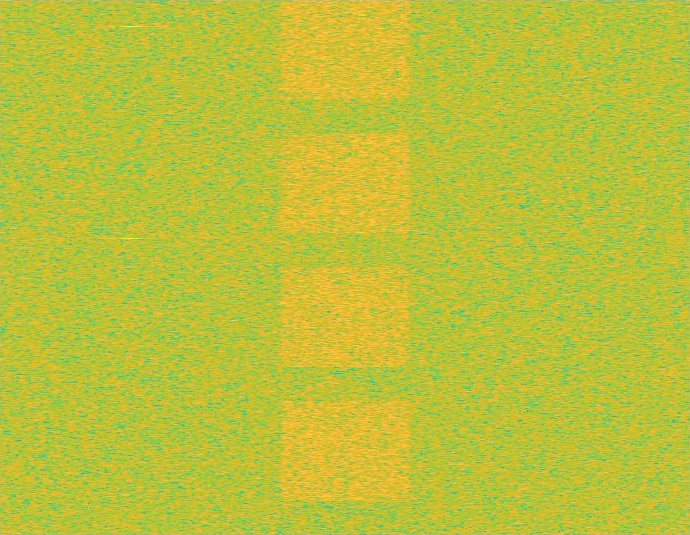5G: (276, 0, 414, 534)
Radar: (124, 0, 138, 534)
